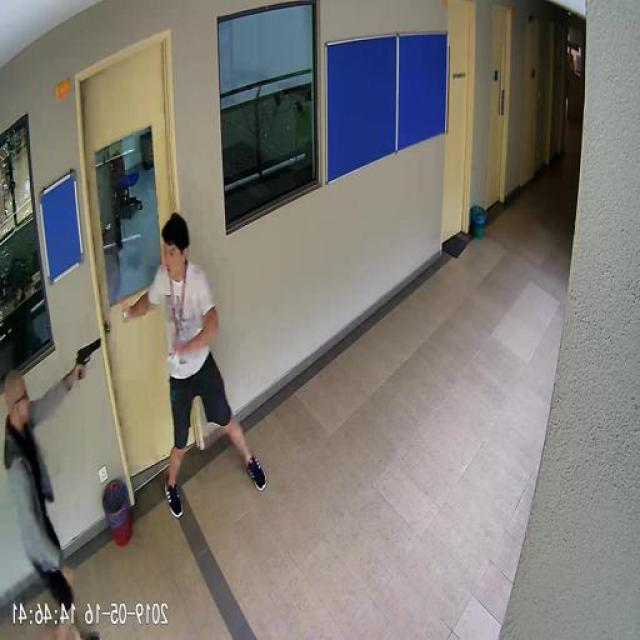Gun: (76, 336, 102, 379)
